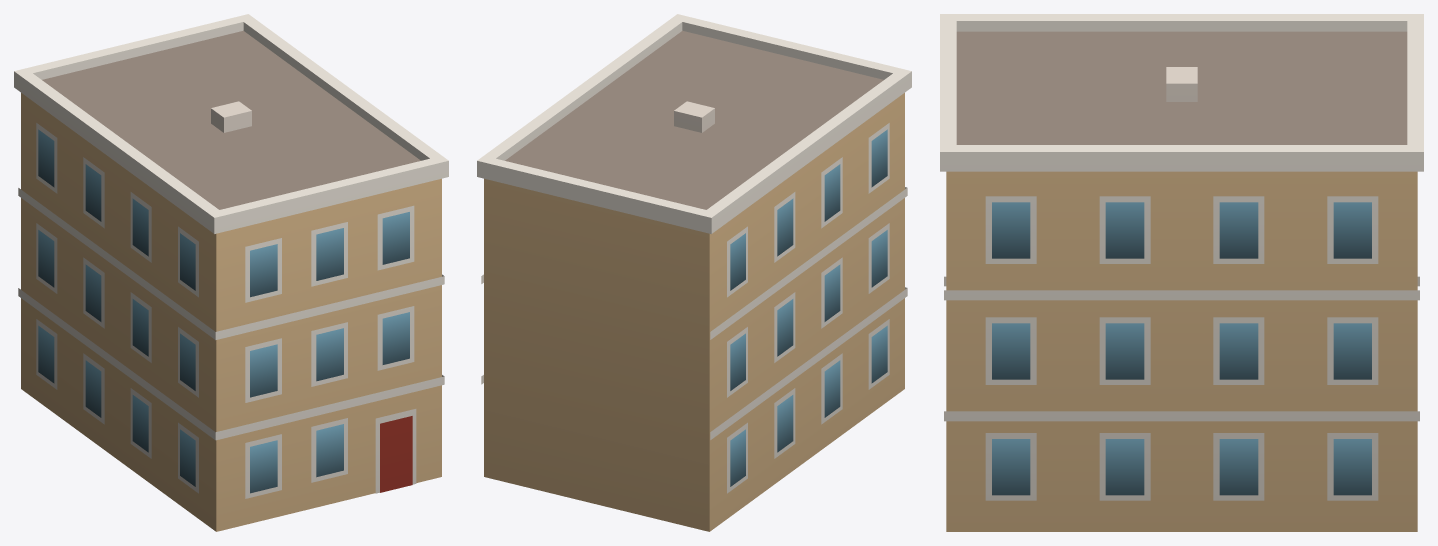
File: beacon_n9_far.glb
3 renders of one model, left to right at view 1: azimuth 30°, elevation 25°; view 2: azimuth 150°, elevation 25°; view 3: azimuth 270°, elevation 25°, orthographic. The views are drawn at different scales.
Visible parts, largest first — view 1: beacon_n9_far; view 2: beacon_n9_far; view 3: beacon_n9_far.
Part boxes in pixels (bbox=[...]): beacon_n9_far: bbox=[14, 14, 448, 531]; beacon_n9_far: bbox=[477, 14, 911, 531]; beacon_n9_far: bbox=[940, 14, 1423, 531].
Bounding box in the file's own units: 8.32 × 10.97 × 12.32.
Materials: 1 (1 with a texture image).
